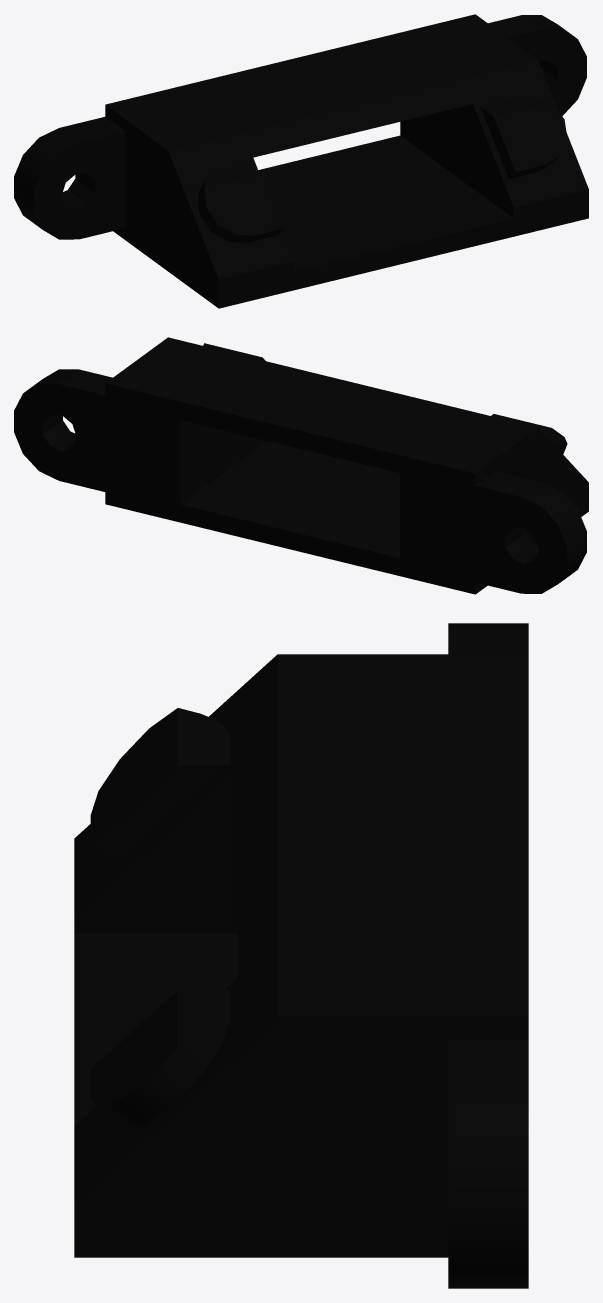
The model's file is prigim.fbx.
3 renders of one model, top to bottom at view 1: azimuth 30°, elevation 25°; view 2: azimuth 150°, elevation 25°; view 3: azimuth 270°, elevation 25°, orthographic. The views are drawn at different scales.
Visible parts, largest first — view 1: prigim.001; view 2: prigim.001; view 3: prigim.001.
Part boxes in pixels (x1,y1,x2,y2): prigim.001: [14, 14, 588, 308]; prigim.001: [14, 337, 588, 594]; prigim.001: [74, 623, 528, 1288].
Bounding box in the file's own units: 4.78 × 1 × 1.7.
1 material, 1 textured.
